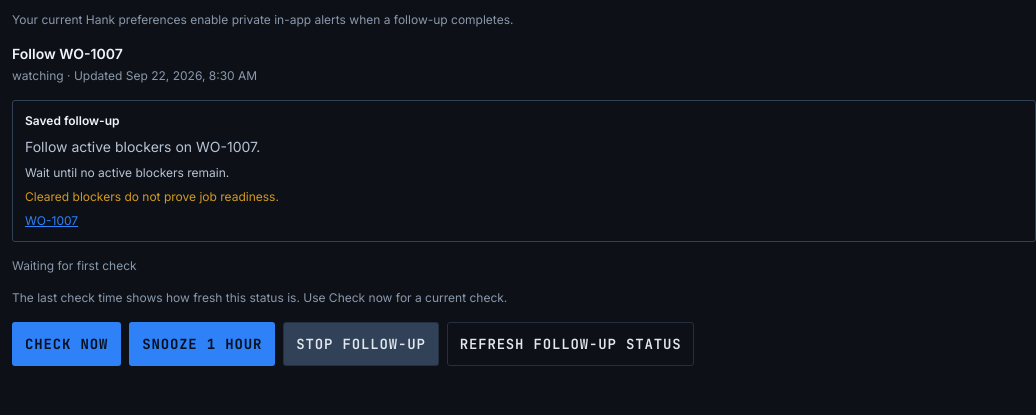
Test: HankWatchWorkflow › uses server versions to snooze, resume, and stop and waits for each receipt
The width and height of the screenshot is (1036, 415).
Click the button "Snooze 1 hour". click: click(202, 344)
box: x1=129 y1=322 x2=275 y2=366
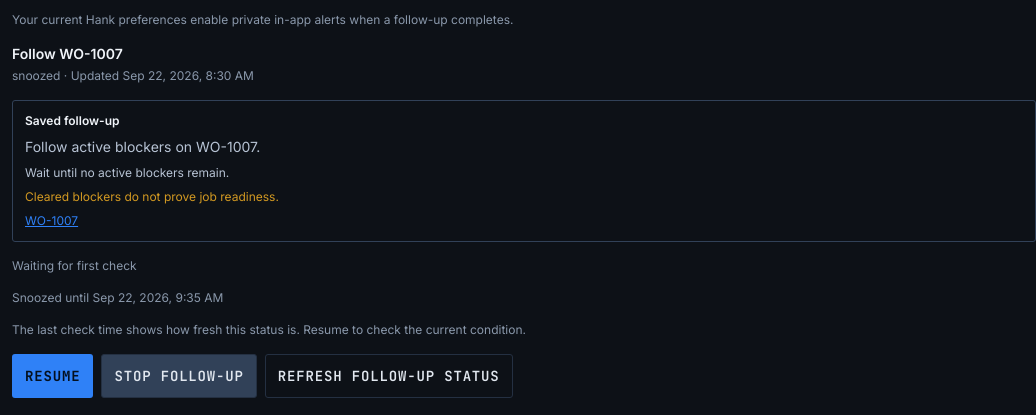
Expected: the text "Check now" is gone
Click the button "Resume". click: click(53, 376)
box: x1=12 y1=354 x2=94 y2=398
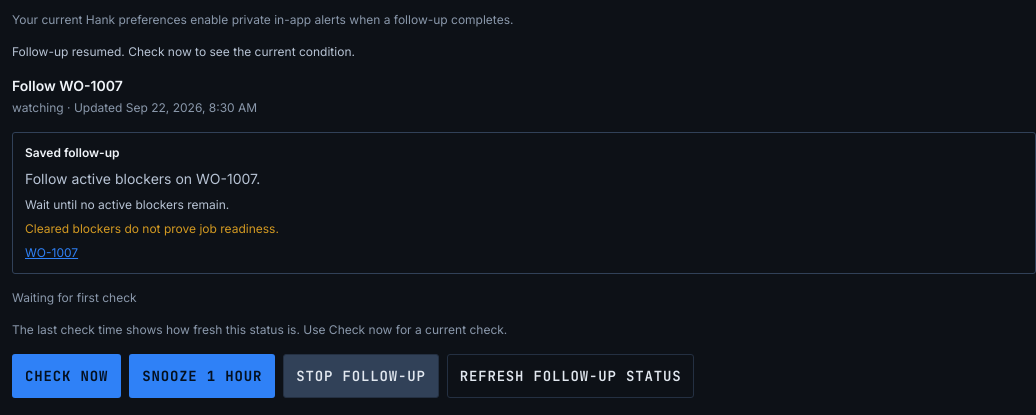
Expected: the text "Follow-up resumed. Check now to see the current condition." is shown, x1=12 y1=44 x2=355 y2=59
Click the button "Stop follow-up". click: click(361, 376)
box: x1=283 y1=354 x2=439 y2=398
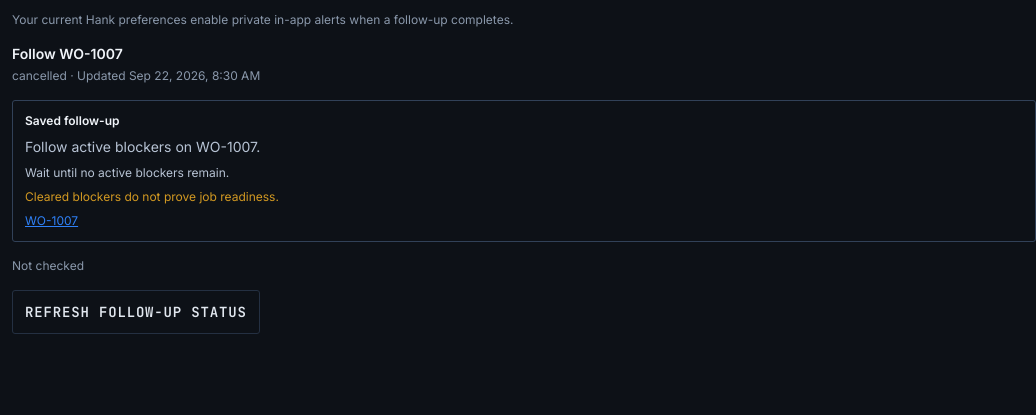
Expected: the text "cancelled · Updated Sep 22, 2026, 8:30 AM" is shown, x1=12 y1=68 x2=260 y2=83
Expected: the button "Stop follow-up" is gone
